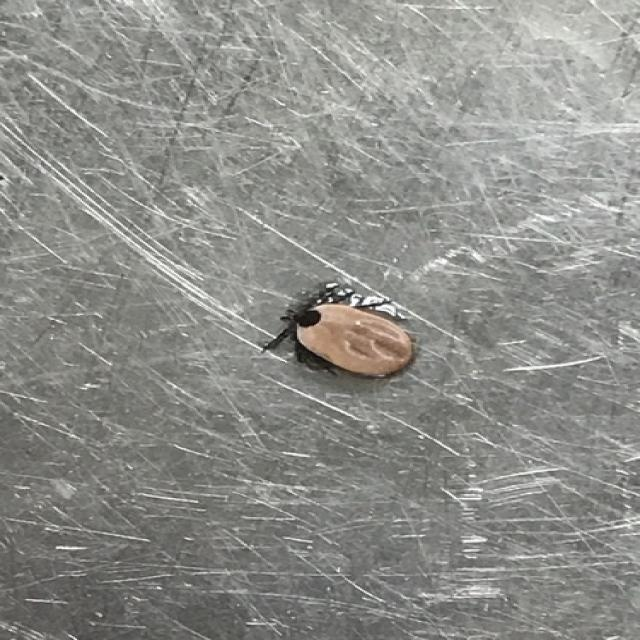Ixodes Ricinus-F-Fed: (265, 283, 416, 383)
